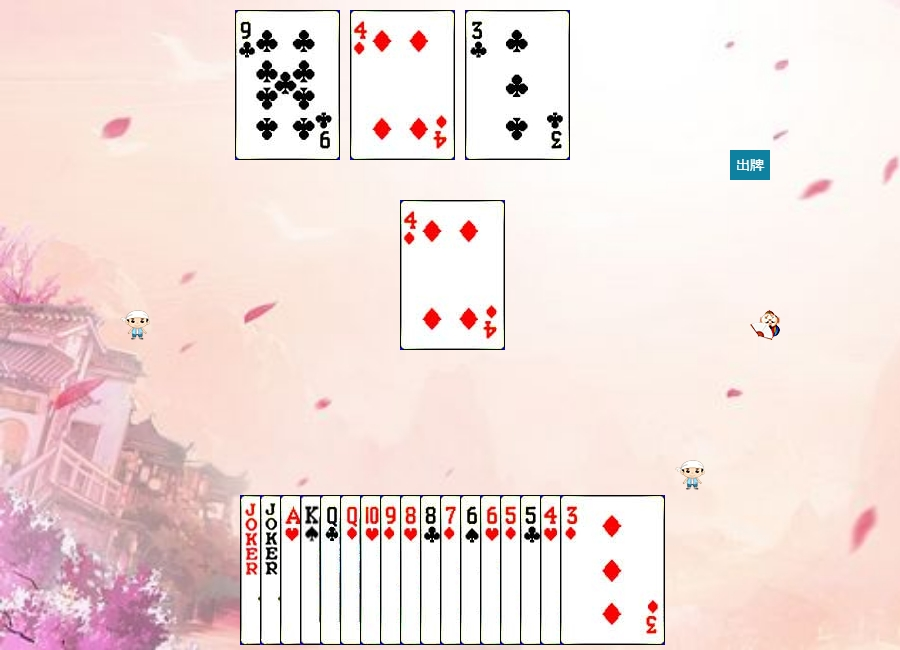10~3: (360, 495, 465, 645)
12~1: (340, 495, 445, 645)
12~2: (320, 495, 425, 645)
13~4: (300, 495, 405, 645)
14~3: (280, 495, 385, 645)
17~3: (260, 495, 365, 645)
18~4: (240, 495, 345, 645)
3~1: (560, 495, 665, 645)
3~2: (465, 10, 570, 160)
4~1: (350, 10, 455, 160), (400, 200, 505, 350)
4~3: (540, 495, 645, 645)
5~1: (500, 495, 605, 645)
5~2: (520, 495, 625, 645)
6~3: (480, 495, 585, 645)
6~4: (460, 495, 565, 645)
7~1: (440, 495, 545, 645)
8~2: (420, 495, 525, 645)
8~3: (400, 495, 505, 645)
9~1: (380, 495, 485, 645)
9~2: (235, 10, 340, 160)
